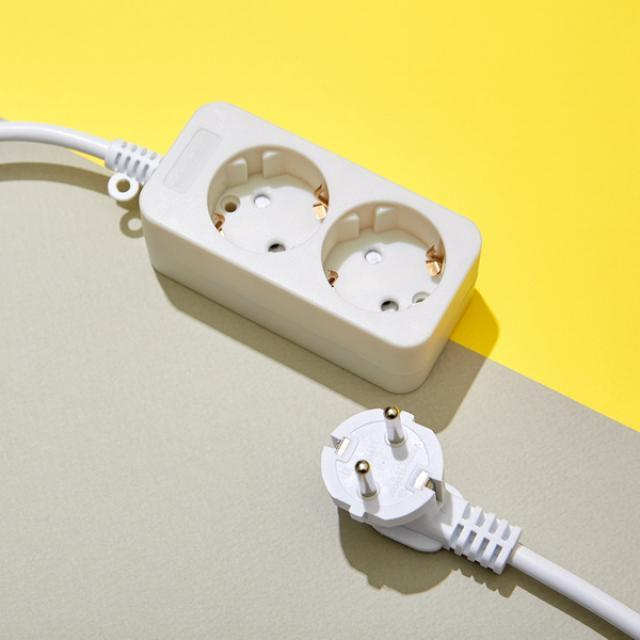typeb: (119, 90, 537, 410)
